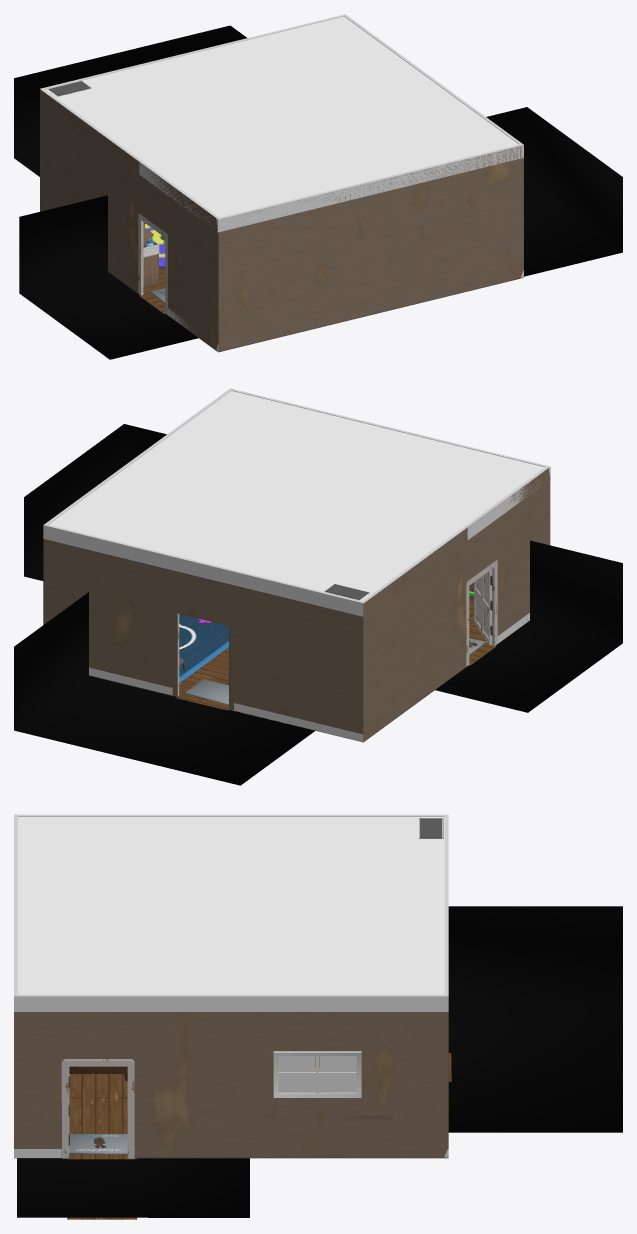
The model's file is Bedroom.fbx.
3 renders of one model, top to bottom at view 1: azimuth 30°, elevation 25°; view 2: azimuth 150°, elevation 25°; view 3: azimuth 270°, elevation 25°, orthographic. The views are drawn at different scales.
Parts seen in each view (by area): view 1: Walls, Ceiling, Black_Hallways, Ceiling_Accents, Door_Outline_Front.002, Hamper, Floor; view 2: Ceiling, Walls, Black_Hallways, Ceiling_Accents, Square_Eyes_Carpet, Floor_Accents, Floor, Door_Left, Door_Outline_Front.002, Closet_Carpet.001; view 3: Ceiling, Black_Hallways, Walls, Ceiling_Accents, Floor, Window_Glass, Door_Outline_Front.001, Window, Bathroom_Carpet.
Boxes of the visible parts, x1=… form: Walls: x1=40, y1=89, x2=523, y2=352; Ceiling: x1=45, y1=16, x2=518, y2=217; Black_Hallways: x1=14, y1=25, x2=622, y2=359; Ceiling_Accents: x1=40, y1=14, x2=523, y2=232; Door_Outline_Front.002: x1=138, y1=213, x2=167, y2=314; Hamper: x1=143, y1=227, x2=159, y2=286; Floor: x1=139, y1=268, x2=165, y2=313; Ceiling: x1=49, y1=391, x2=544, y2=600; Walls: x1=43, y1=468, x2=550, y2=742; Black_Hallways: x1=14, y1=424, x2=622, y2=785; Ceiling_Accents: x1=43, y1=388, x2=550, y2=616; Square_Eyes_Carpet: x1=179, y1=614, x2=228, y2=682; Floor_Accents: x1=89, y1=613, x2=529, y2=741; Floor: x1=176, y1=600, x2=495, y2=710; Door_Left: x1=474, y1=569, x2=491, y2=644; Door_Outline_Front.002: x1=466, y1=560, x2=497, y2=666; Closet_Carpet.001: x1=184, y1=679, x2=228, y2=704; Ceiling: x1=18, y1=817, x2=444, y2=994; Black_Hallways: x1=17, y1=906, x2=622, y2=1217; Walls: x1=14, y1=1012, x2=448, y2=1158; Ceiling_Accents: x1=14, y1=814, x2=448, y2=1011; Floor: x1=67, y1=1052, x2=451, y2=1219; Window_Glass: x1=278, y1=1056, x2=356, y2=1092; Door_Outline_Front.001: x1=61, y1=1059, x2=134, y2=1158; Window: x1=273, y1=1051, x2=361, y2=1097; Bathroom_Carpet: x1=69, y1=1134, x2=127, y2=1154.
Bounding box in the file's own units: 3549 × 1012 × 3108.
